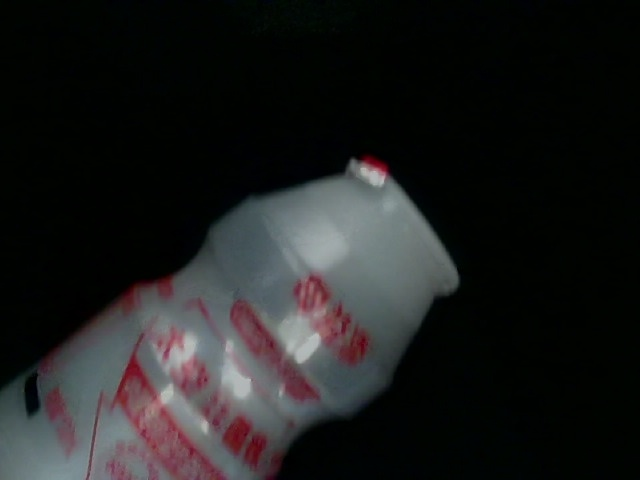CYLJ: (52, 186, 171, 305)
